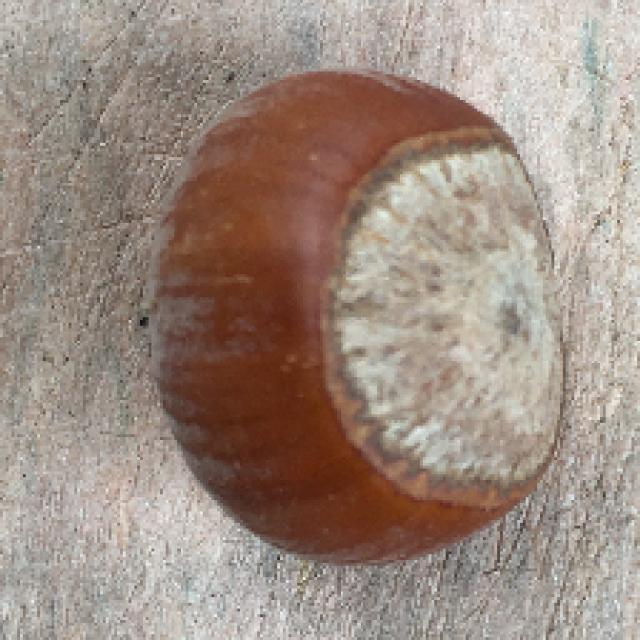qualityHazelnut: (132, 60, 579, 580)
